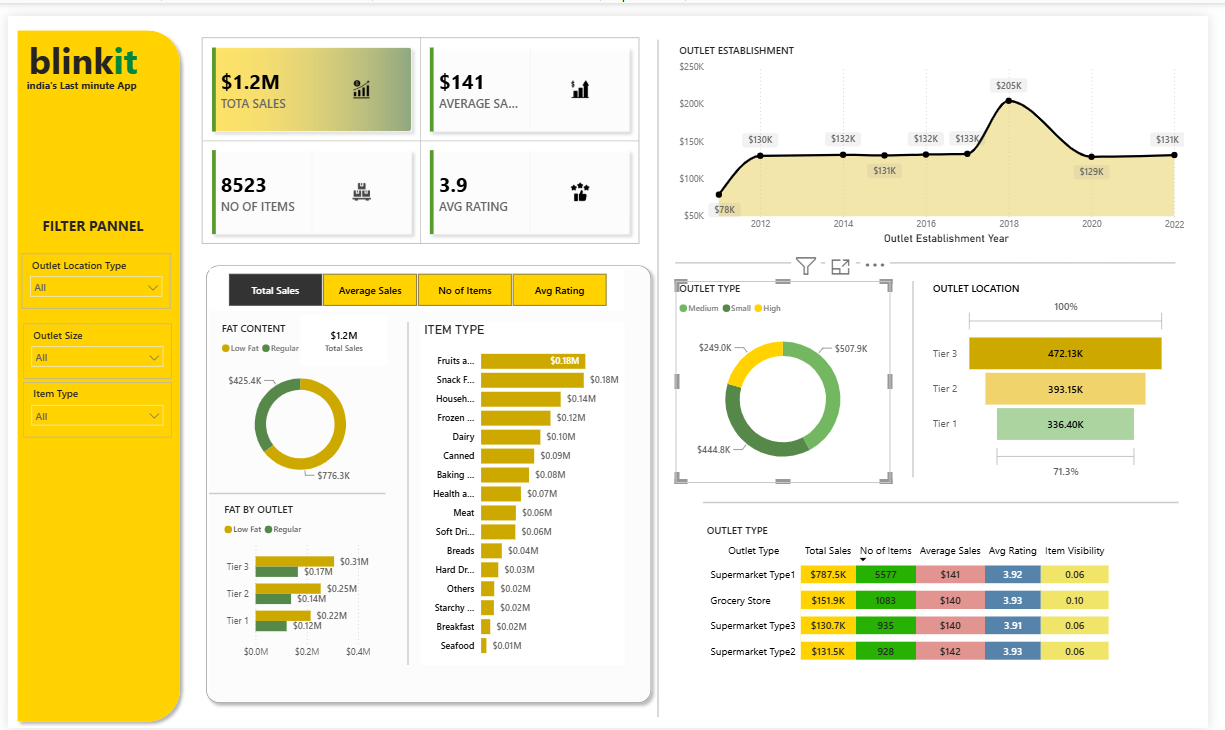

What the dashboard file says about the page in this screenshot:
{"tool":"powerbi","page":{"name":"Page 1","canvas":[1600,950],"ordinal":0},"visuals":[{"type":"shape","box":[3.3,10,235,940],"z":0},{"type":"textbox","box":[20,78.8,173.8,30],"z":1000},{"type":"textbox","box":[234.4,1118.9,215.6,68.9],"z":2000},{"type":"textbox","box":[150,1228.5,300,150],"z":3000},{"type":"textbox","box":[17.5,20,163.8,73.8],"z":4000},{"type":"cardVisual","fields":{"Data":["BlinkIT Grocery Data.Total Sales","BlinkIT Grocery Data.Average Sales","BlinkIT Grocery Data.No of Items","BlinkIT Grocery Data.Avg Rating"]},"box":[241.7,11.7,618.3,310],"z":5000},{"type":"shape","box":[255,323.3,611.7,601.7],"z":6000},{"type":"shape","box":[890,321.7,666.7,15],"z":15001},{"type":"shape","box":[1183.3,353.3,46.7,261.7],"z":15003},{"type":"shape","box":[926,636,634,24],"z":15005},{"type":"slicer","fields":{"Values":["Matrics.Matrics"]},"box":[268.3,336.7,553.3,56.7],"z":15006},{"type":"donutChart","title":"FAT CONTENT","fields":{"Category":["BlinkIT Grocery Data.Item Fat Content"],"Y":["BlinkIT Grocery Data.Avg Rating"]},"box":[280,406.7,220,230],"z":15007},{"type":"shape","box":[521.7,408.3,23.3,456.7],"z":15008},{"type":"cardVisual","fields":{"Data":["BlinkIT Grocery Data.Avg Rating"]},"box":[385,393.3,126.7,78.3],"z":15009},{"type":"shape","box":[268.3,630,235,13.3],"z":15010},{"type":"clusteredBarChart","title":"FAT BY OUTLET","fields":{"Y":["BlinkIT Grocery Data.Avg Rating"],"Category":["BlinkIT Grocery Data.Outlet Location Type"],"Series":["BlinkIT Grocery Data.Item Fat Content"]},"box":[283.3,648.3,220,216.7],"z":15011},{"type":"barChart","title":"ITEM TYPE","fields":{"Category":["BlinkIT Grocery Data.Item Type"],"Y":["BlinkIT Grocery Data.Avg Rating"]},"box":[550,408.3,271.7,456.7],"z":15012},{"type":"lineChart","title":"OUTLET ESTABLISHMENT","fields":{"Category":["BlinkIT Grocery Data.Outlet Establishment Year"],"Y":["BlinkIT Grocery Data.Total Sales"]},"box":[890,36.7,683.3,273.3],"z":15013},{"type":"shape","box":[856.7,31.7,20,903.3],"z":15014},{"type":"donutChart","title":"OUTLET TYPE","fields":{"Y":["BlinkIT Grocery Data.Total Sales"],"Category":["BlinkIT Grocery Data.Outlet Size"]},"box":[890,353.3,286.7,270],"z":15015},{"type":"funnel","title":"OUTLET LOCATION","fields":{"Category":["BlinkIT Grocery Data.Outlet Location Type"],"Y":["Sum(BlinkIT Grocery Data.Sales)"]},"box":[1228.3,353.3,320,270],"z":15016},{"type":"pivotTable","title":"OUTLET  TYPE","fields":{"Rows":["BlinkIT Grocery Data.Outlet Type"],"Values":["BlinkIT Grocery Data.Total Sales","BlinkIT Grocery Data.No of Items","BlinkIT Grocery Data.Average Sales","BlinkIT Grocery Data.Avg Rating","Avg(BlinkIT Grocery Data.Item Visibility)"]},"box":[926,676,622,224],"z":15017},{"type":"slicer","fields":{"Values":["BlinkIT Grocery Data.Outlet Location Type"]},"box":[18.3,316.7,198.3,73.3],"z":15018},{"type":"slicer","fields":{"Values":["BlinkIT Grocery Data.Outlet Size"]},"box":[20,410,198.3,73.3],"z":15019},{"type":"slicer","fields":{"Values":["BlinkIT Grocery Data.Item Type"]},"box":[20,488.3,198.3,73.3],"z":15020},{"type":"textbox","box":[33.3,261.7,160,48.3],"z":15021}]}

Visuals, with their boxes in screenshot pixels (x1, y1, x2, y2), scaled from the page's 1600x950 canvas onto the 1225x730 screenshot:
shape: 3, 8, 182, 729
textbox: 15, 61, 148, 84
textbox: 13, 15, 139, 72
cardVisual - BlinkIT Grocery Data.Total Sales x BlinkIT Grocery Data.Average Sales: 185, 9, 658, 247
shape: 195, 248, 664, 711
shape: 681, 247, 1192, 259
shape: 906, 271, 942, 473
shape: 709, 489, 1194, 507
slicer - Matrics.Matrics: 205, 259, 629, 302
"FAT CONTENT" donutChart: 214, 313, 383, 489
shape: 399, 314, 417, 665
cardVisual - BlinkIT Grocery Data.Avg Rating: 295, 302, 392, 362
shape: 205, 484, 385, 494
"FAT BY OUTLET" clusteredBarChart: 217, 498, 385, 665
"ITEM TYPE" barChart: 421, 314, 629, 665
"OUTLET ESTABLISHMENT" lineChart: 681, 28, 1205, 238
shape: 656, 24, 671, 718
"OUTLET TYPE" donutChart: 681, 271, 901, 479
"OUTLET LOCATION" funnel: 940, 271, 1185, 479
"OUTLET  TYPE" pivotTable: 709, 519, 1185, 692
slicer - BlinkIT Grocery Data.Outlet Location Type: 14, 243, 166, 300
slicer - BlinkIT Grocery Data.Outlet Size: 15, 315, 167, 371
slicer - BlinkIT Grocery Data.Item Type: 15, 375, 167, 432
textbox: 25, 201, 148, 238
